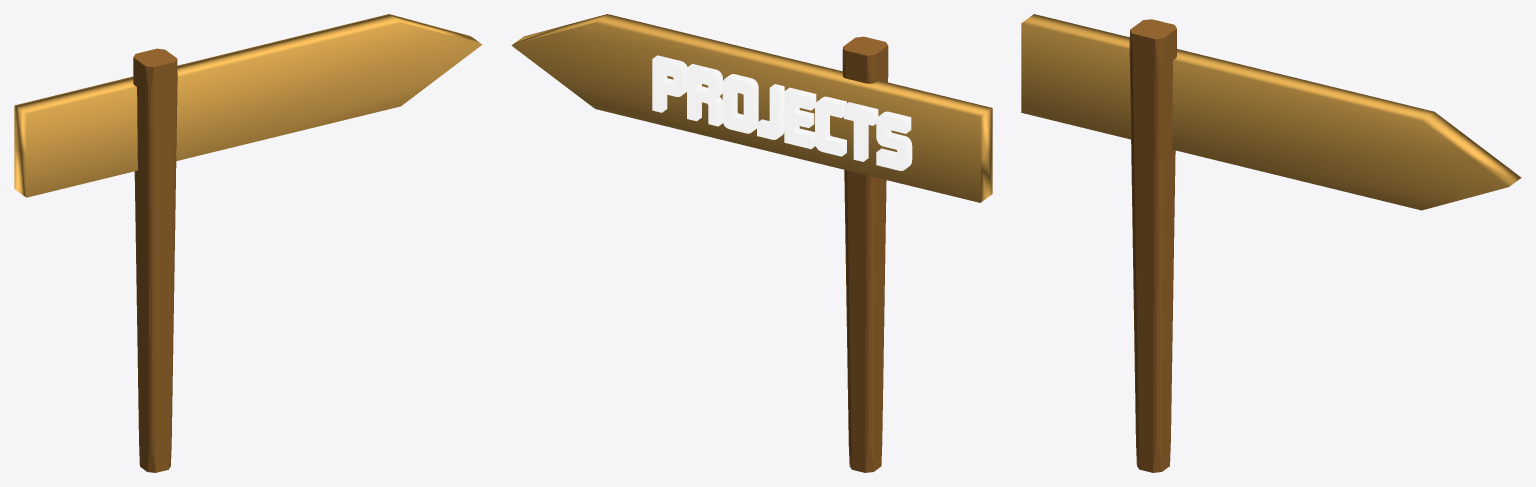
The model's file is projectsBoard.glb.
3 views of the same model, side by side, from view 1: azimuth 30°, elevation 25°; view 2: azimuth 150°, elevation 25°; view 3: azimuth 330°, elevation 25° (orthographic). The views are drawn at different scales.
Parts seen in each view (by area): view 1: Cube.006, Cube.001; view 2: Cube.006, Cube.001, Text.001; view 3: Cube.006, Cube.001.
Boxes of the visible parts, x1,y1,x2,y2 form: Cube.006: (14,14,482,197); Cube.001: (133,48,177,472); Cube.006: (511,14,992,202); Cube.001: (842,36,888,472); Text.001: (652,55,912,170); Cube.006: (1021,14,1521,210); Cube.001: (1129,19,1176,472).
Size of the model in its own units: 4.58 by 3.92 by 0.5057.
